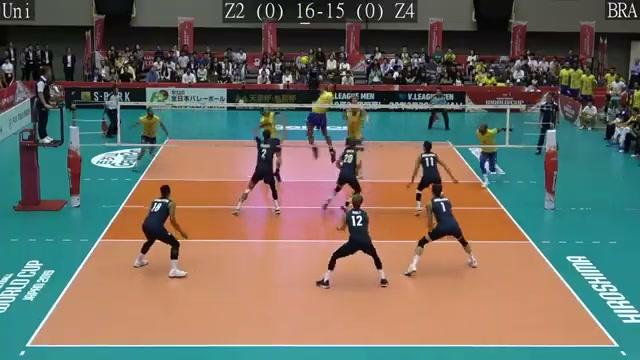ball: (297, 54, 313, 65)
